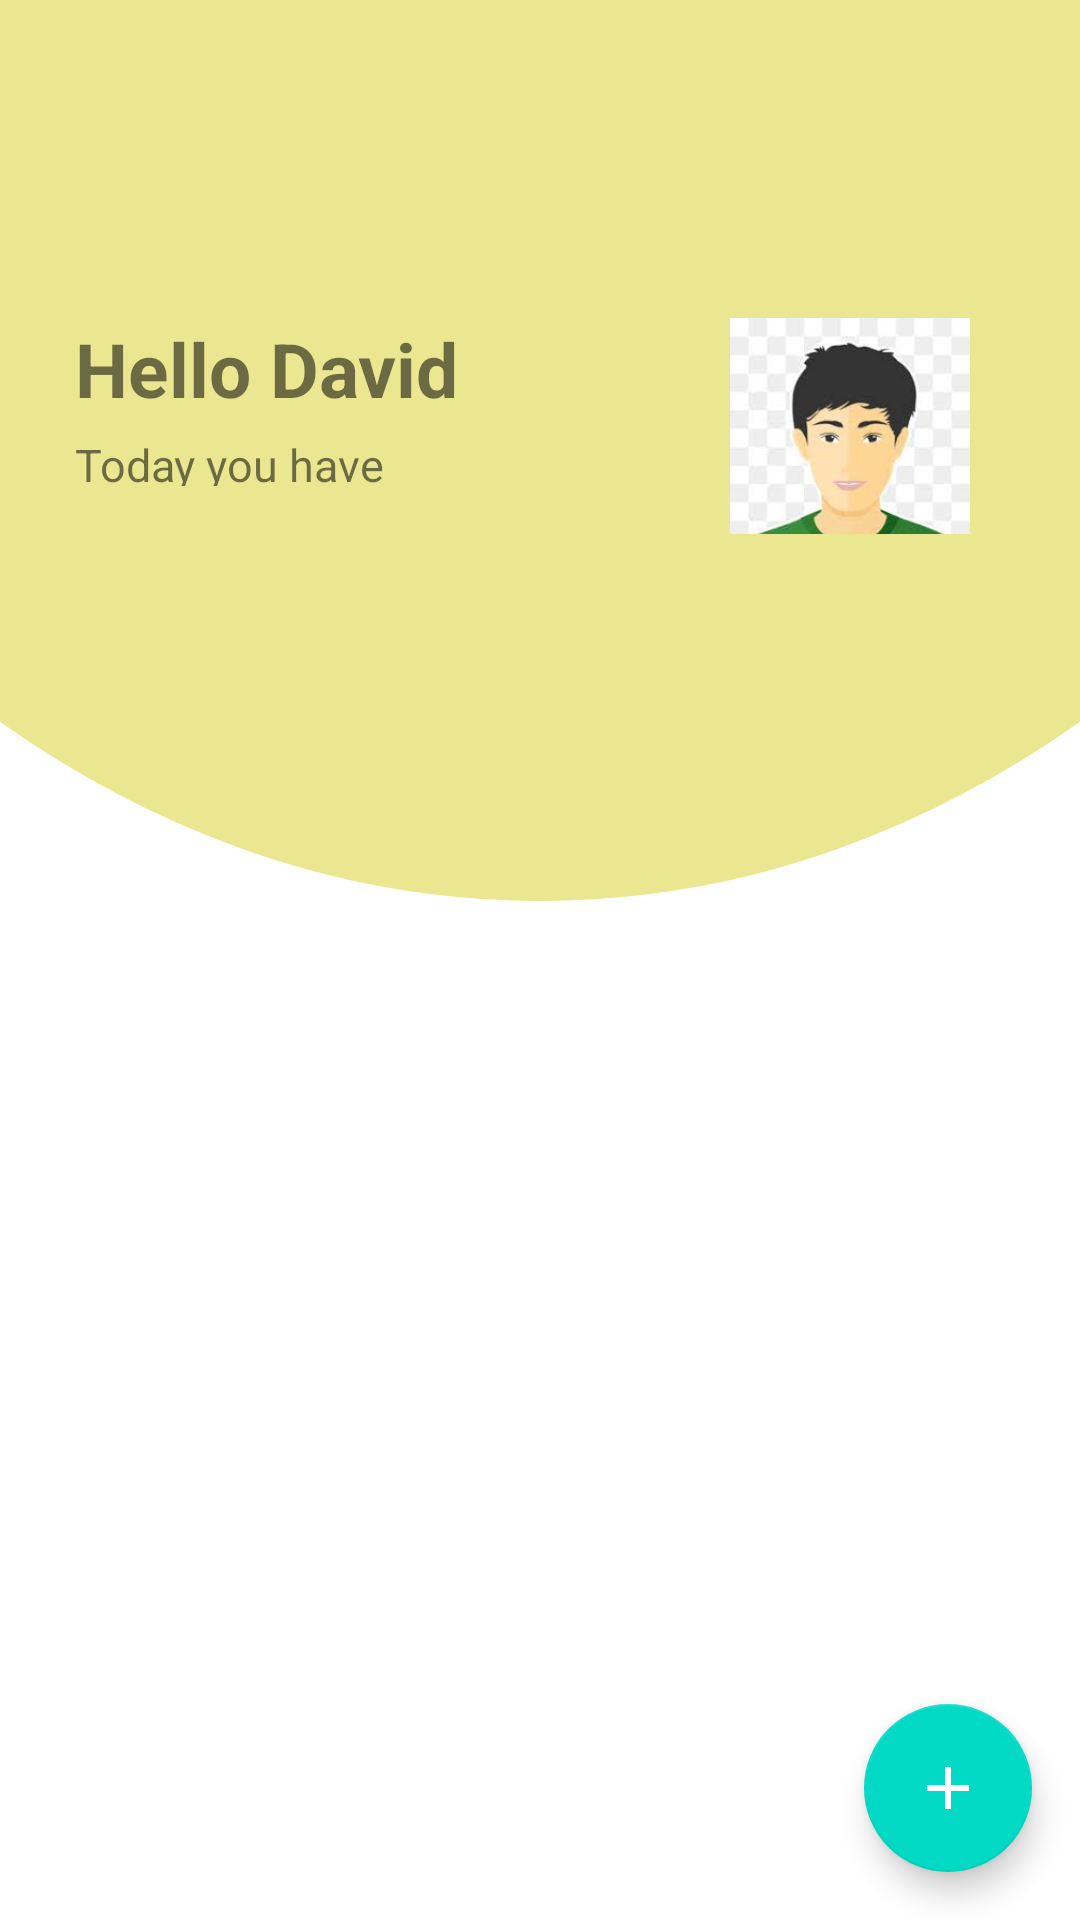

Screen size 1080px x 1920px. Icon name, then its center in pixels as (x=x, y=y):
Add task button: (x=948, y=1788)
